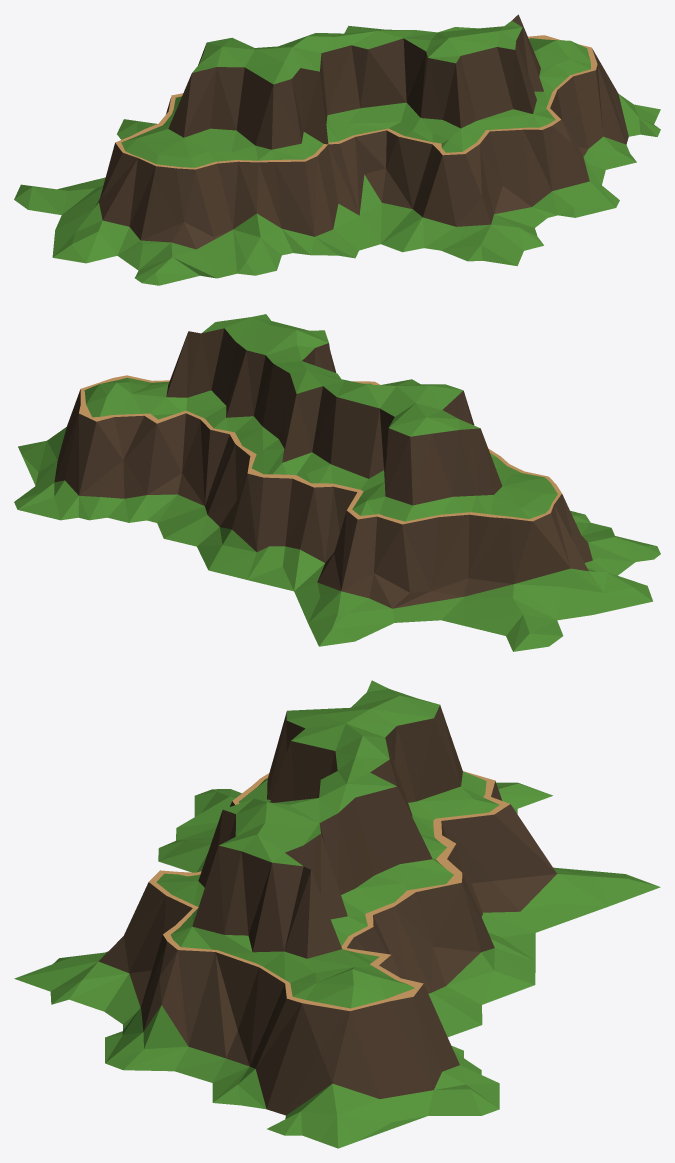
File: terrains_mountains.fbx
The picture shows the model from 3 angles, top to bottom: view 1: azimuth 30°, elevation 25°; view 2: azimuth 150°, elevation 25°; view 3: azimuth 270°, elevation 25°; orthographic projection. The views are drawn at different scales.
Parts seen in each view (by area): view 1: terrains_mountains; view 2: terrains_mountains; view 3: terrains_mountains.
Boxes of the visible parts, x1,y1,x2,y2 form: terrains_mountains: (14, 14, 660, 285); terrains_mountains: (14, 314, 660, 651); terrains_mountains: (14, 680, 660, 1148).
Size of the model in its own units: 200 by 47.18 by 142.
